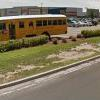Bus: (1, 10, 70, 43)
